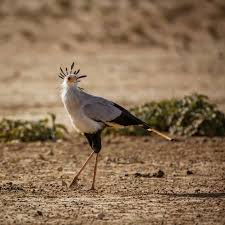Walking: (44, 49, 199, 202)
